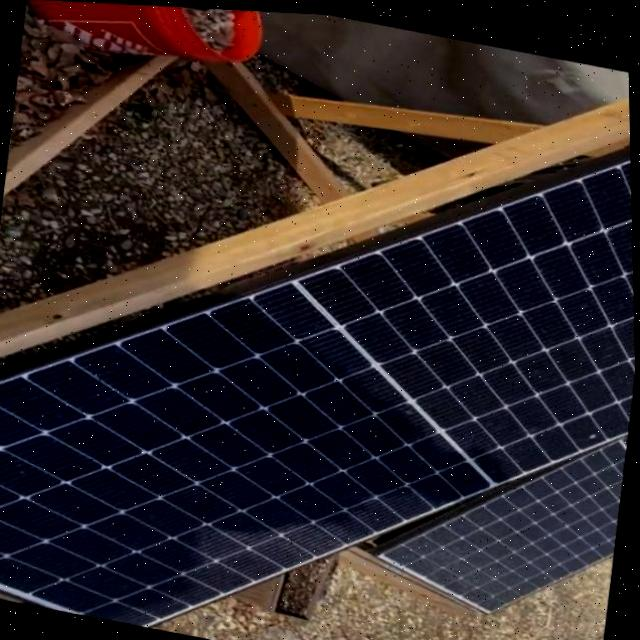Normal Solar Panel: (0, 0, 640, 640), (366, 368, 634, 632)
